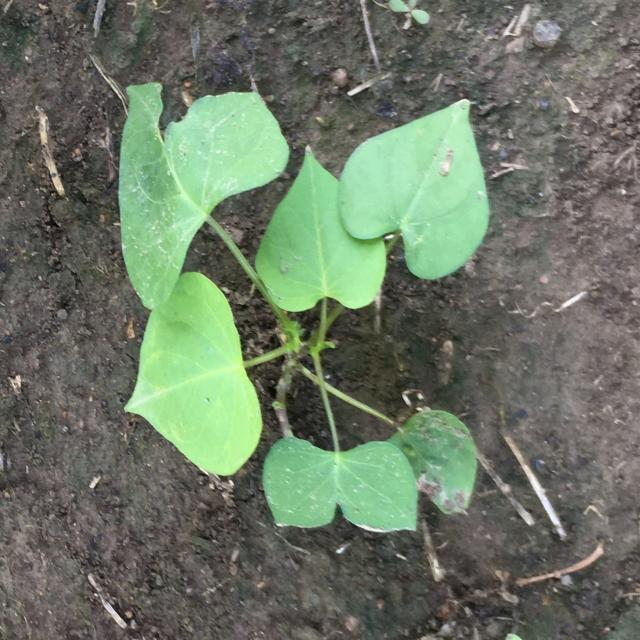MorningGlory: (118, 82, 489, 532)
